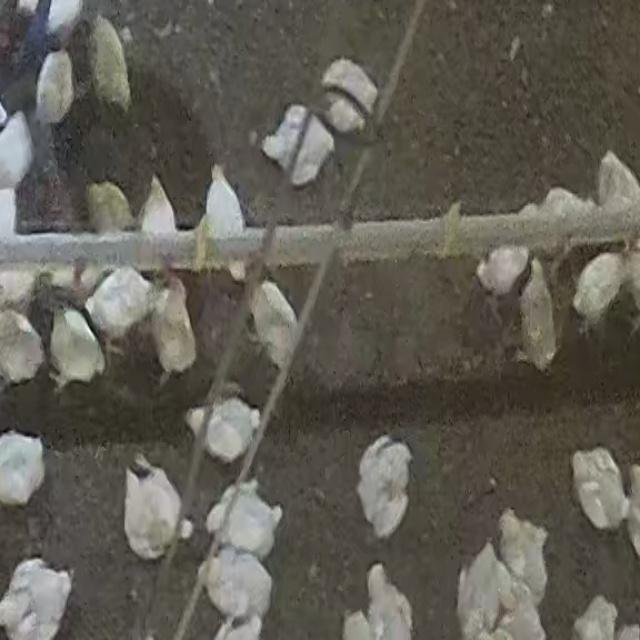chicken: (122, 456, 186, 562), (205, 481, 283, 562), (266, 102, 340, 183), (200, 543, 274, 624), (0, 556, 72, 638), (356, 436, 413, 539), (85, 264, 153, 348), (150, 274, 200, 380), (204, 163, 246, 284), (187, 397, 261, 465), (496, 511, 548, 605), (246, 280, 299, 372), (571, 448, 629, 532), (48, 305, 106, 389), (324, 49, 382, 132), (90, 14, 134, 118), (518, 258, 557, 372), (572, 250, 624, 327), (35, 49, 75, 130), (475, 244, 529, 298), (597, 152, 640, 215), (138, 172, 177, 236), (535, 187, 594, 223), (626, 242, 640, 328)
